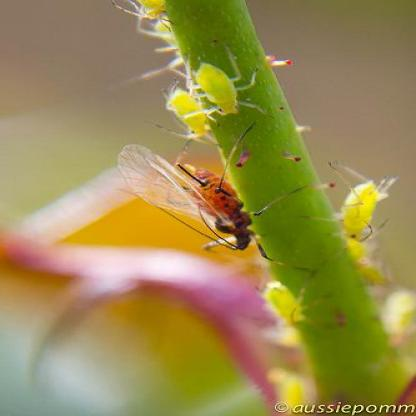aphid: (114, 137, 278, 258), (180, 52, 272, 120), (323, 163, 385, 241), (155, 86, 227, 143), (259, 274, 314, 332)
